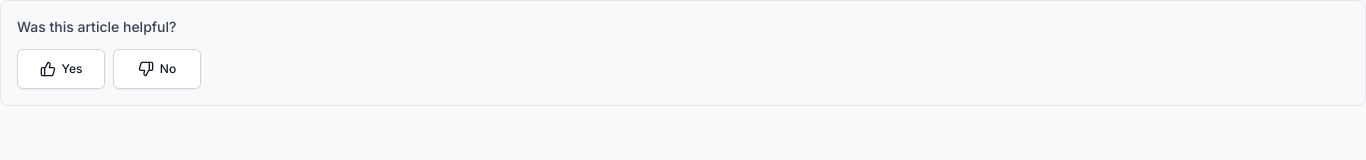
Test: KbArticleFeedbackBlock › clicking Yes calls feedback API and shows thanks (item 7)
Click the button with aria-label "yes, this article was helpful". click: point(61, 69)
box: [17,49,105,89]
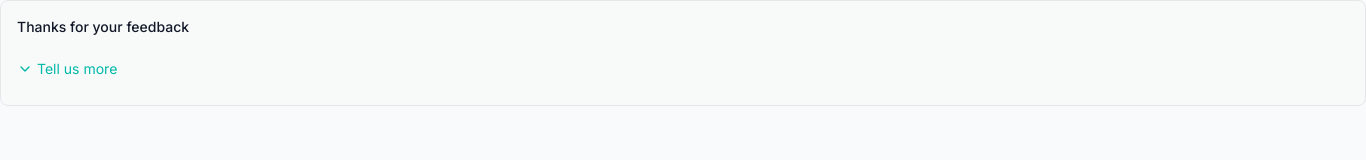
Expected: the message "Thanks for your feedback Tell us more" is shown
Expected: the text "Thanks for your feedback" is shown, [17,18,189,35]
